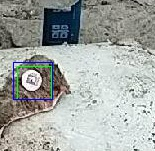text: (17, 66, 51, 99)
